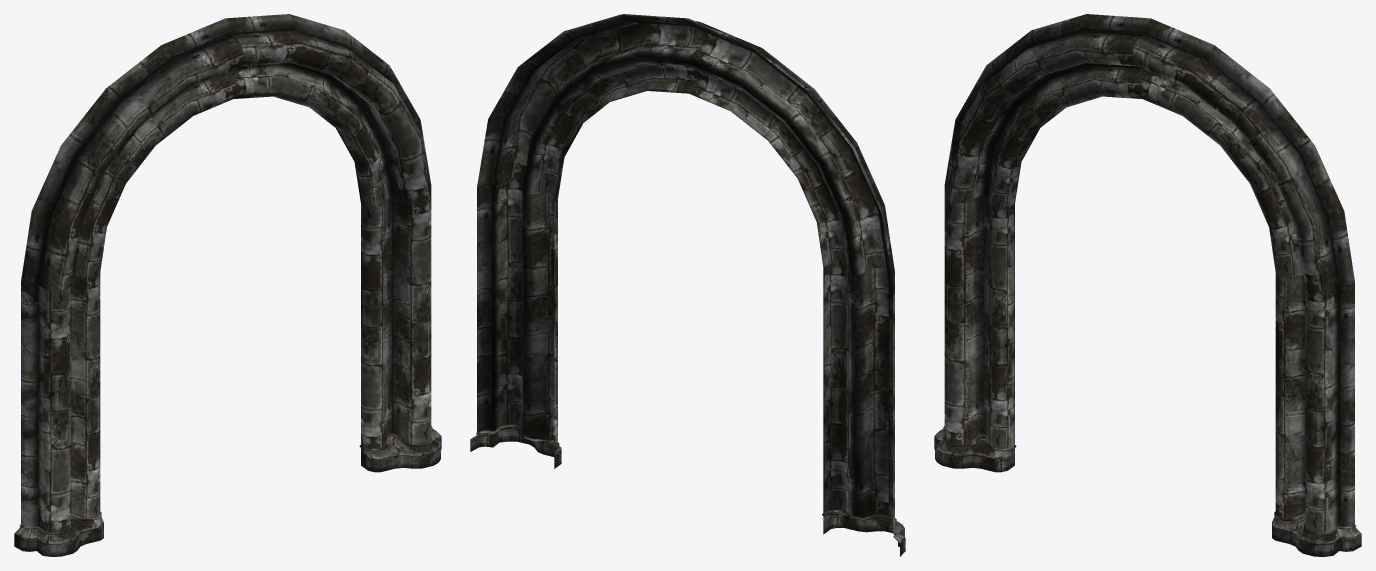
File: door_frame_large_ornate_arched.dae
3 views of the same model, side by side, from view 1: azimuth 30°, elevation 25°; view 2: azimuth 150°, elevation 25°; view 3: azimuth 330°, elevation 25° (orthographic).
Visible parts, largest first — view 1: polySurface18; view 2: polySurface18; view 3: polySurface18.
Part boxes in pixels (<box>): polySurface18: <box>14,14,441,556</box>; polySurface18: <box>470,14,905,556</box>; polySurface18: <box>934,14,1361,556</box>.
Bounding box in the file's own units: 6.07 × 6.55 × 0.5501.
